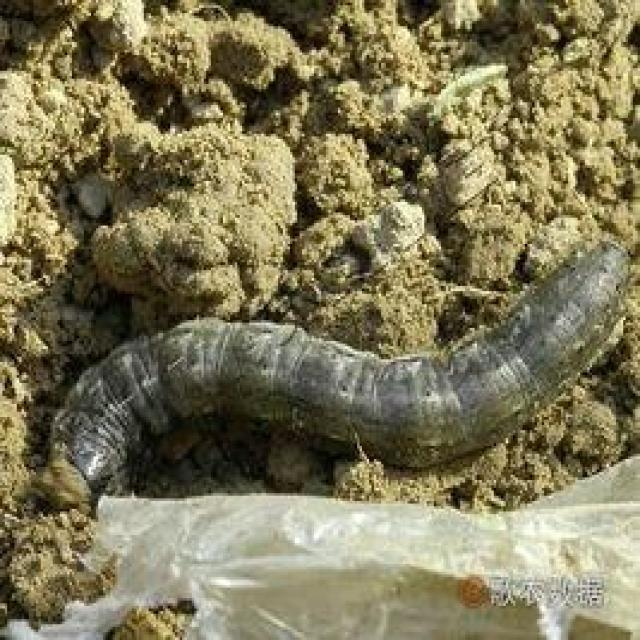black cutworm: (36, 236, 628, 516)
